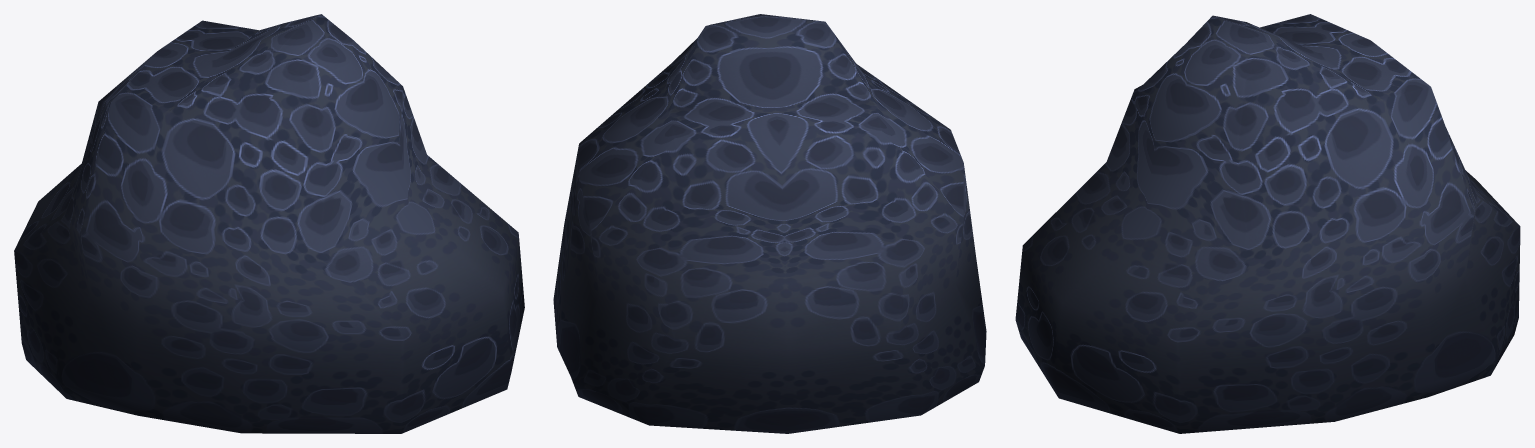
Rendered from Rock_02e.FBX.
The picture shows the model from 3 angles, left to right: view 1: azimuth 30°, elevation 25°; view 2: azimuth 150°, elevation 25°; view 3: azimuth 270°, elevation 25°; orthographic projection. The views are drawn at different scales.
Visible parts, largest first — view 1: Rock_02e; view 2: Rock_02e; view 3: Rock_02e.
Part boxes in pixels (x1,y1,x2,y2): Rock_02e: [14, 14, 524, 433]; Rock_02e: [553, 14, 986, 433]; Rock_02e: [1015, 14, 1520, 433].
Bounding box in the file's own units: 114 × 81.34 × 119.
